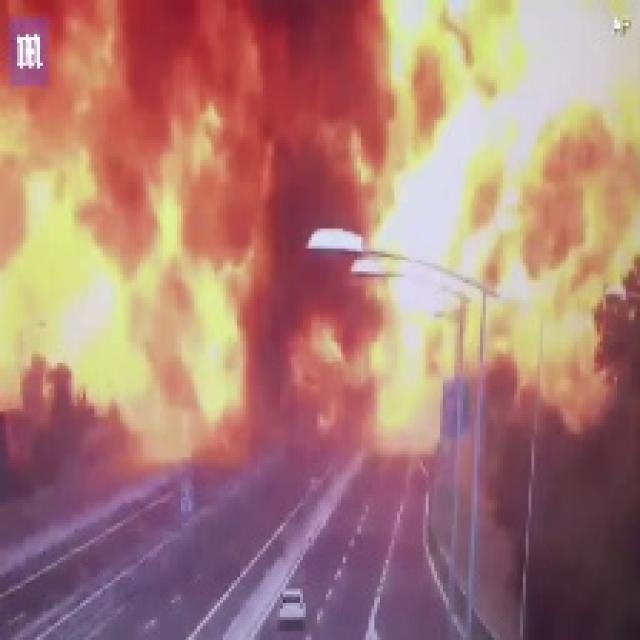fire: (332, 15, 629, 446), (1, 25, 273, 462)
